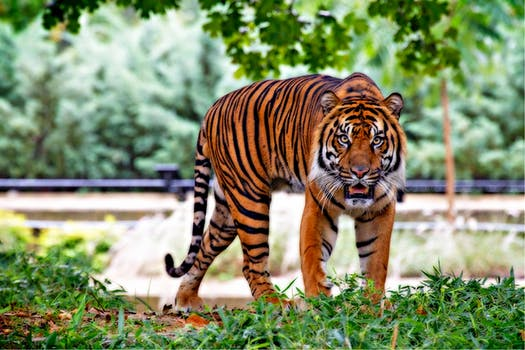tiger: (162, 70, 407, 313)
